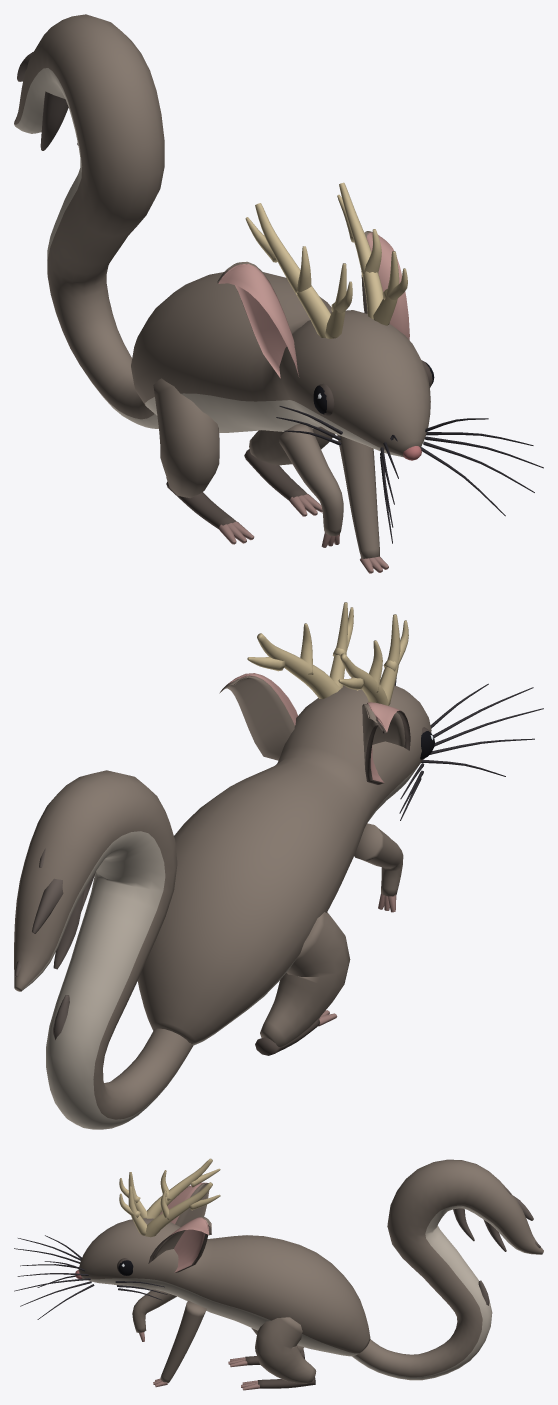
File: horned_rat.obj
3 renders of one model, top to bottom at view 1: azimuth 30°, elevation 25°; view 2: azimuth 150°, elevation 25°; view 3: azimuth 270°, elevation 25°, orthographic. The views are drawn at different scales.
Visible parts, largest first — view 1: HornedSewerCreature; view 2: HornedSewerCreature; view 3: HornedSewerCreature.
Boxes of the visible parts, box(x1,y1,x2,y2) form: HornedSewerCreature: box(14, 14, 543, 573); HornedSewerCreature: box(14, 602, 543, 1129); HornedSewerCreature: box(14, 1158, 543, 1390).
Size of the model in its own units: 0.2452 by 0.4845 by 1.08.
